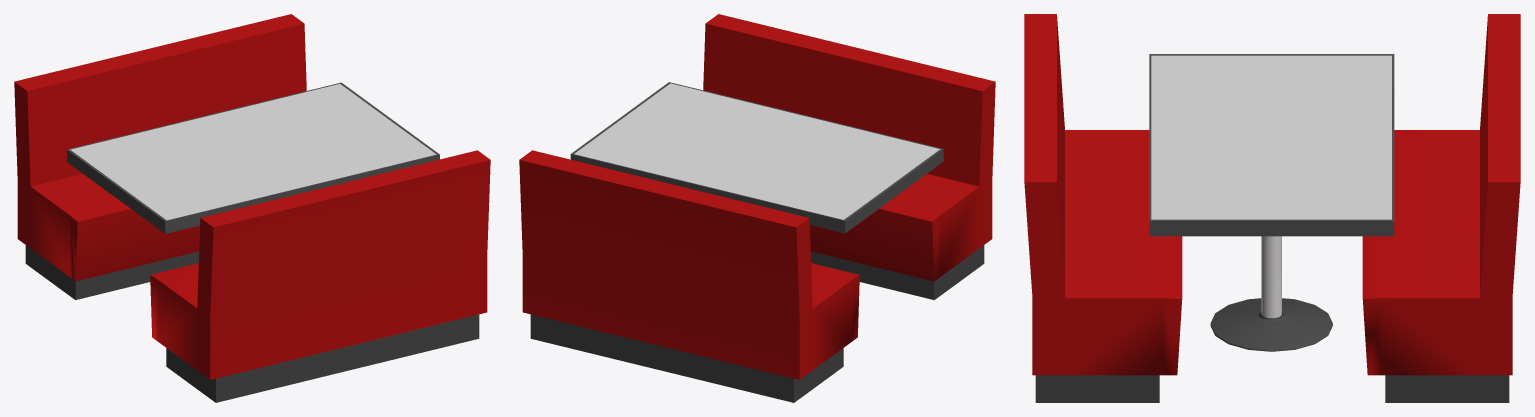
File: Booth.fbx
The picture shows the model from 3 angles, left to right: view 1: azimuth 30°, elevation 25°; view 2: azimuth 150°, elevation 25°; view 3: azimuth 270°, elevation 25°; orthographic projection. The views are drawn at different scales.
Visible parts, largest first — view 1: booth_benches, Booth_table; view 2: booth_benches, Booth_table; view 3: booth_benches, Booth_table.
Boxes of the visible parts, x1,y1,x2,y2 form: booth_benches: [14, 14, 490, 402]; Booth_table: [67, 82, 439, 233]; booth_benches: [519, 14, 995, 402]; Booth_table: [570, 82, 943, 233]; booth_benches: [1024, 14, 1520, 402]; Booth_table: [1149, 54, 1394, 351].
Bounding box in the file's own units: 152 × 95.48 × 189.
